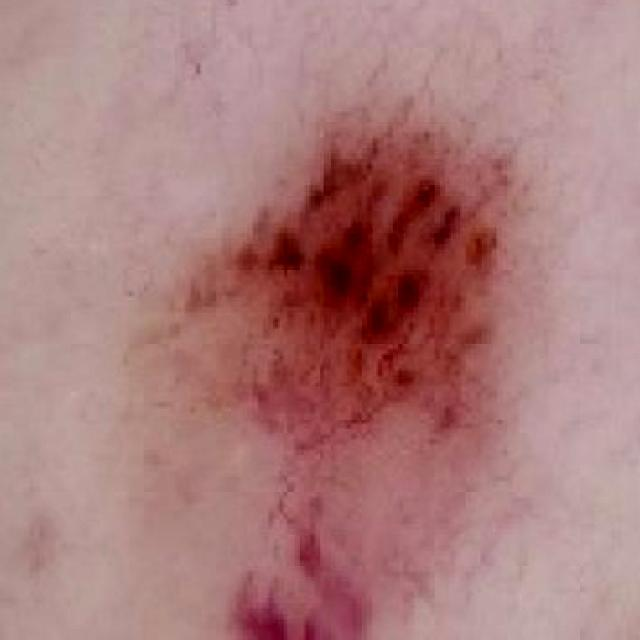BCC: (125, 100, 548, 640)
